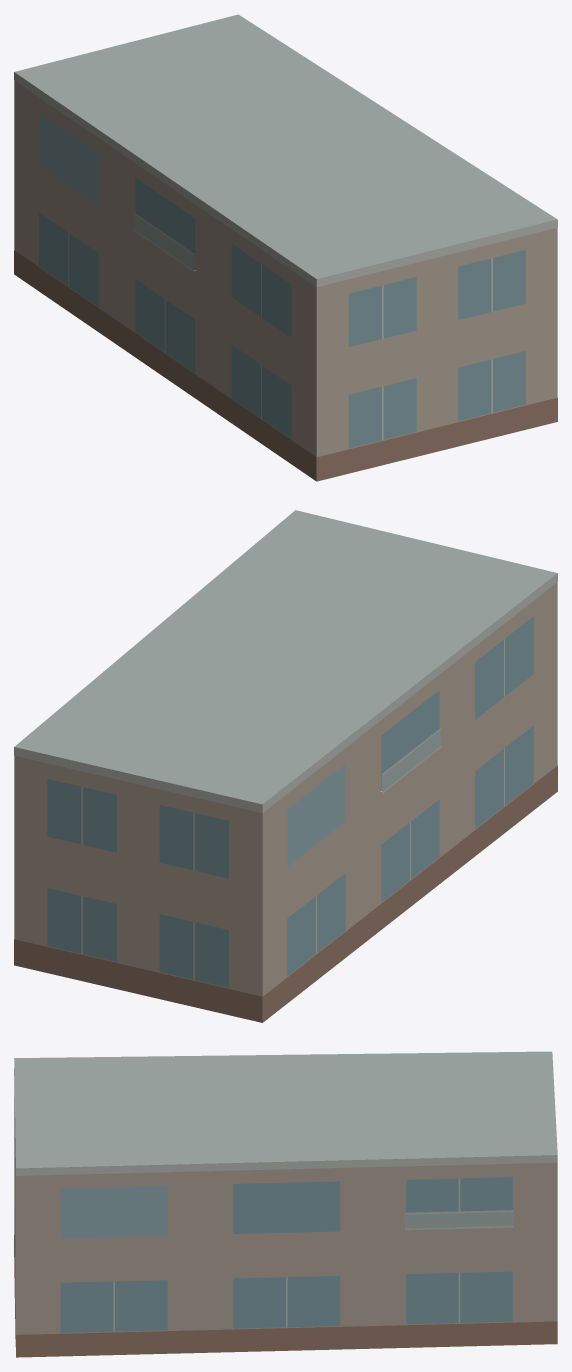
File: survey-upis-32714877.glb
The picture shows the model from 3 angles, top to bottom: view 1: azimuth 30°, elevation 25°; view 2: azimuth 150°, elevation 25°; view 3: azimuth 270°, elevation 25°; orthographic projection. The views are drawn at different scales.
Parts seen in each view (by area): view 1: survey-upis-32714877.tmp; view 2: survey-upis-32714877.tmp; view 3: survey-upis-32714877.tmp.
Part boxes in pixels (<box>): survey-upis-32714877.tmp: <box>14,14,557,481</box>; survey-upis-32714877.tmp: <box>14,510,557,1022</box>; survey-upis-32714877.tmp: <box>14,1051,557,1357</box>.
Bounding box in the file's own units: 8.11 × 6.1 × 15.91.
